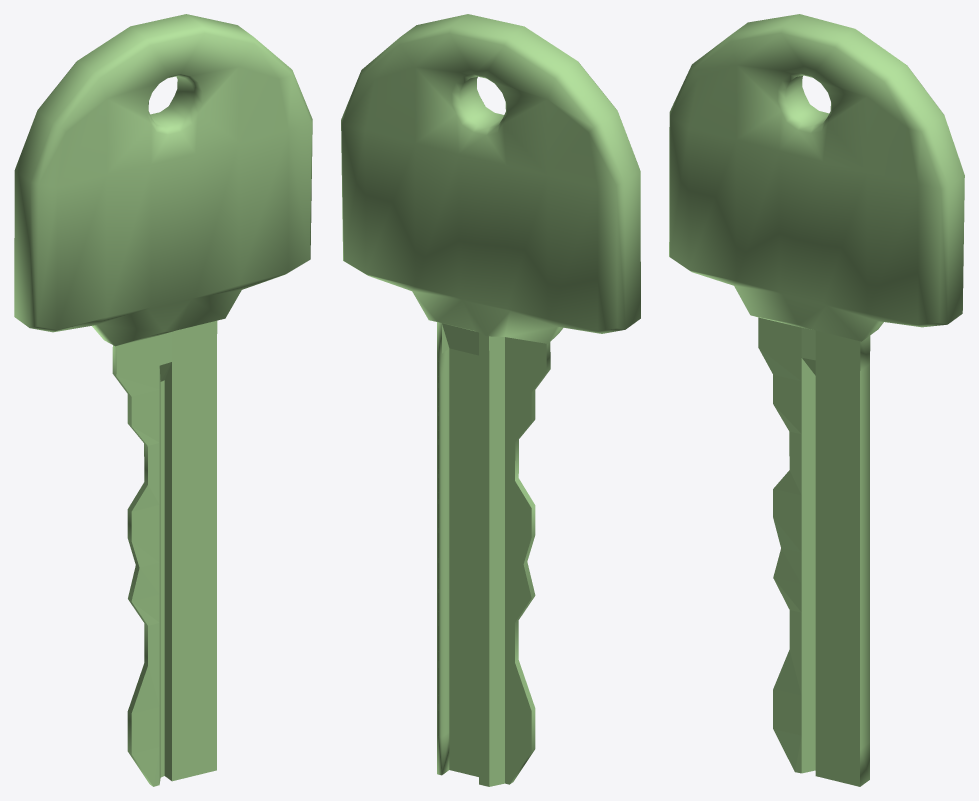
File: Keys_20.FBX
3 views of the same model, side by side, from view 1: azimuth 30°, elevation 25°; view 2: azimuth 150°, elevation 25°; view 3: azimuth 330°, elevation 25° (orthographic).
Visible parts, largest first — view 1: Keys_1; view 2: Keys_1; view 3: Keys_1.
Boxes of the visible parts, box(x1,y1,x2,y2) form: Keys_1: box(14, 14, 312, 786); Keys_1: box(341, 14, 640, 786); Keys_1: box(669, 14, 964, 786).
Size of the model in its own units: 0.8372 by 2.13 by 0.1334.
